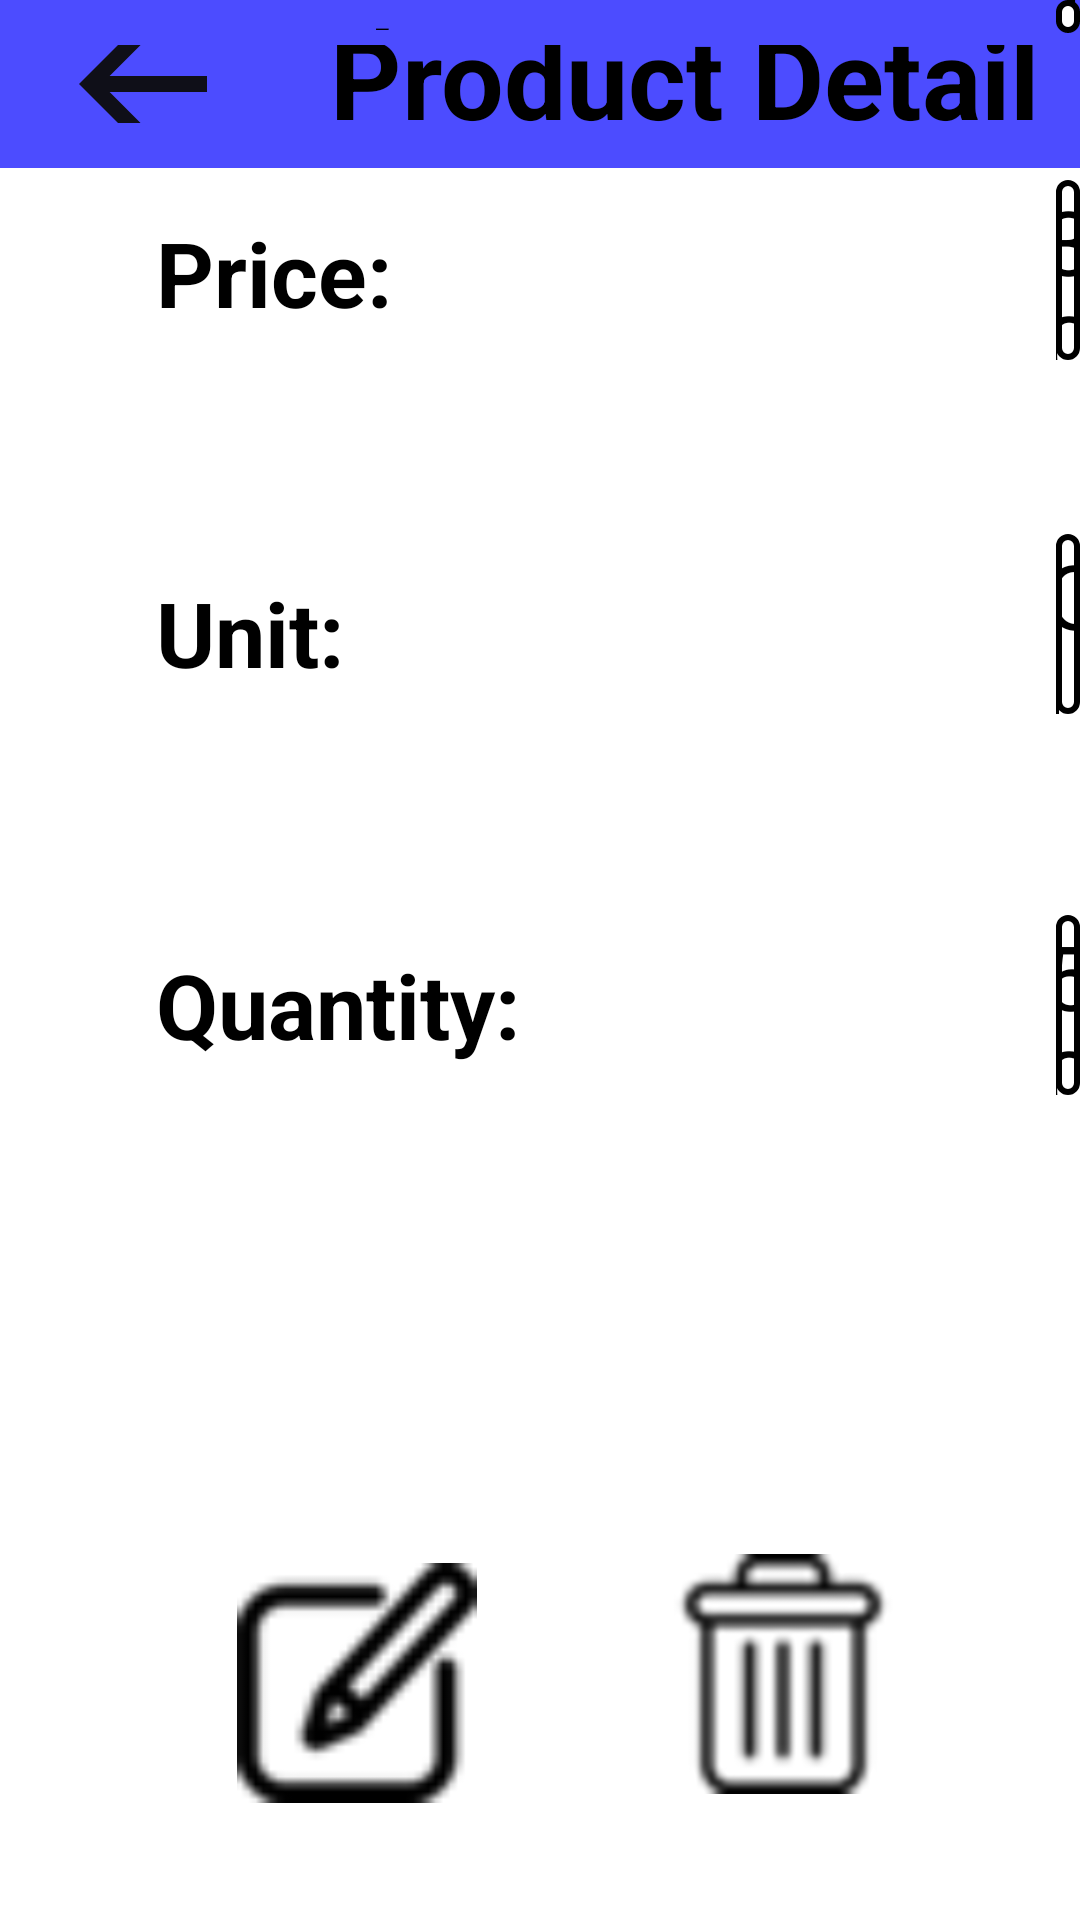

Icons on this 1080px x 1920px Android screen, each with its box as (x1, y1, x2, y2):
delete product: (681, 1554, 885, 1794)
